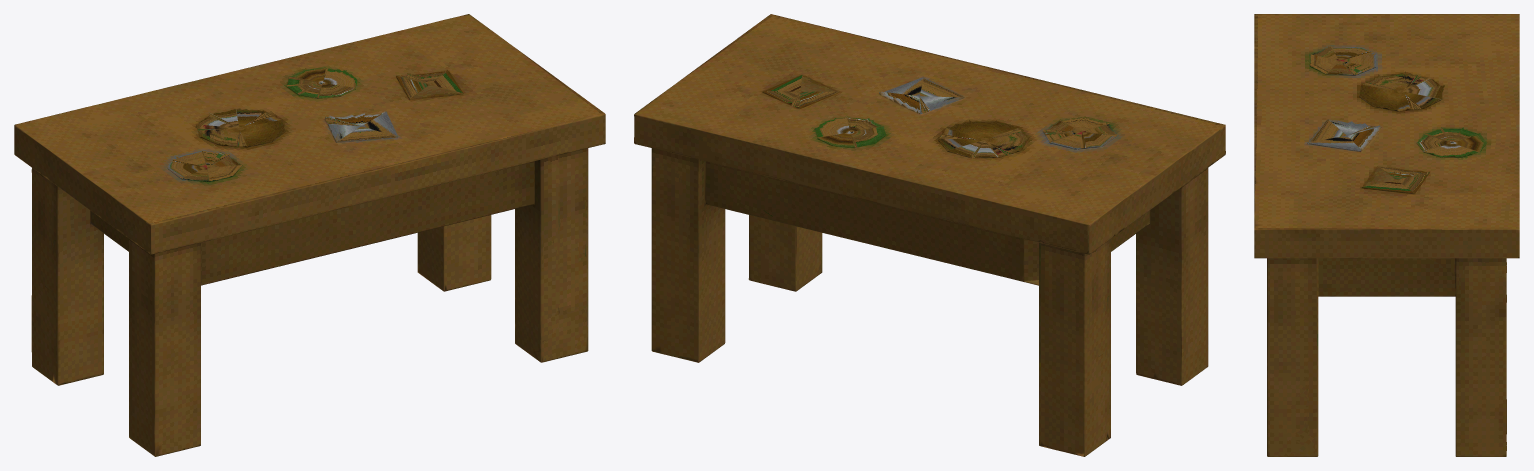
File: tavern_table_psx.glb
3 views of the same model, side by side, from view 1: azimuth 30°, elevation 25°; view 2: azimuth 150°, elevation 25°; view 3: azimuth 270°, elevation 25° (orthographic). The views are drawn at different scales.
Parts seen in each view (by area): view 1: tavern_table_psx; view 2: tavern_table_psx; view 3: tavern_table_psx.
Boxes of the visible parts, x1=… form: tavern_table_psx: x1=14, y1=14, x2=605, y2=456; tavern_table_psx: x1=634, y1=14, x2=1225, y2=456; tavern_table_psx: x1=1254, y1=14, x2=1519, y2=456.
Size of the model in its own units: 0.8512 by 0.4346 by 0.4434.
Materials: 1 (1 with a texture image).
